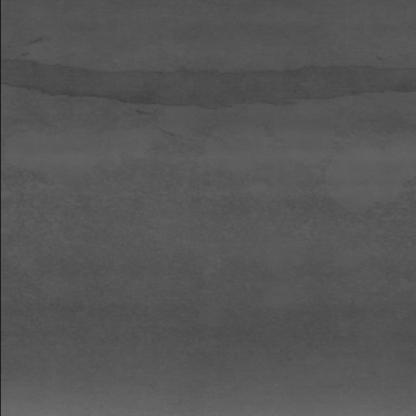water_spot: (16, 51, 410, 128)
